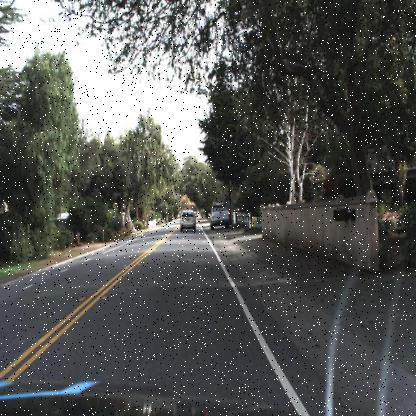car: (208, 202, 229, 230), (178, 208, 197, 232)
